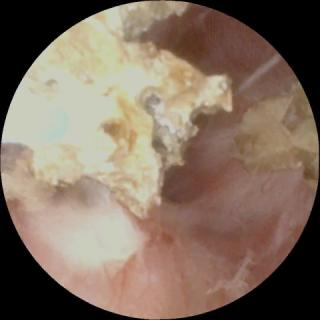stone: (24, 4, 233, 218), (233, 87, 314, 182)
